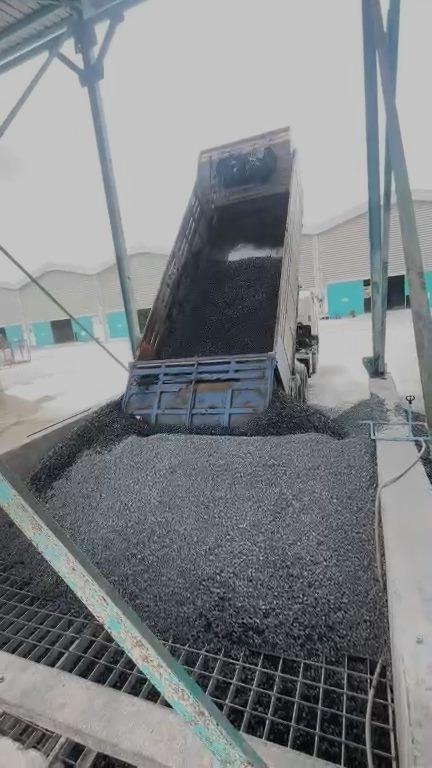gravel: (28, 383, 391, 656), (160, 256, 280, 358), (1, 512, 77, 611)
sand: (1, 392, 82, 447)
